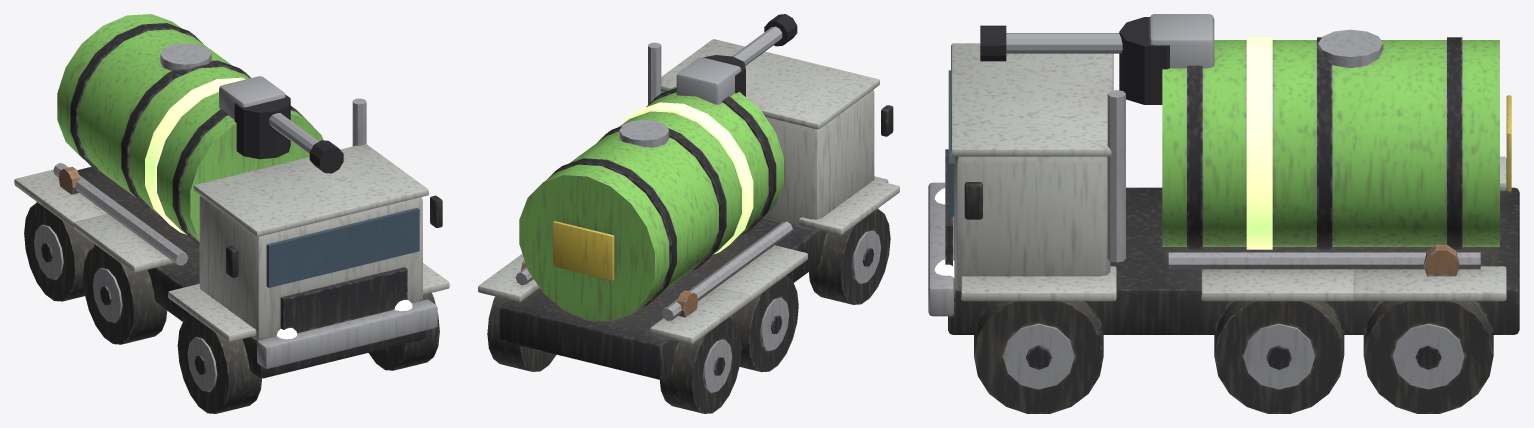
File: toxin_truck.glb
The picture shows the model from 3 angles, left to right: view 1: azimuth 30°, elevation 25°; view 2: azimuth 150°, elevation 25°; view 3: azimuth 270°, elevation 25°; orthographic projection. The views are drawn at different scales.
Parts seen in each view (by area): view 1: Hull, Turret, Barrel; view 2: Hull, Turret, Barrel; view 3: Hull, Turret, Barrel.
Boxes of the visible parts, x1=… form: Hull: x1=14, y1=14, x2=449, y2=413; Turret: x1=219, y1=76, x2=290, y2=159; Barrel: x1=269, y1=113, x2=343, y2=173; Hull: x1=478, y1=39, x2=899, y2=413; Turret: x1=676, y1=55, x2=745, y2=104; Barrel: x1=732, y1=14, x2=797, y2=65; Hull: x1=928, y1=29, x2=1519, y2=413; Turret: x1=1119, y1=14, x2=1214, y2=104; Barrel: x1=980, y1=25, x2=1122, y2=61.
Size of the model in its own units: 2.5 by 2.74 by 4.55.
Materials: 12 (10 with a texture image).
